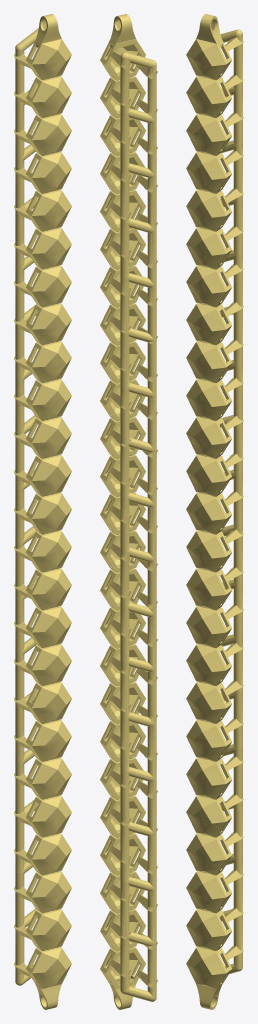
Rendered from yzn5-92_3.glb.
The picture shows the model from 3 angles, left to right: view 1: azimuth 30°, elevation 25°; view 2: azimuth 210°, elevation 25°; view 3: azimuth 330°, elevation 25°; orthographic projection.
Parts seen in each view (by area): view 1: Renderer Node; view 2: Renderer Node; view 3: Renderer Node.
Boxes of the visible parts, <box> form: Renderer Node: <box>14,14,71,1009</box>; Renderer Node: <box>100,14,157,1009</box>; Renderer Node: <box>186,14,243,1009</box>.
Size of the model in its own units: 7.65 by 181 by 8.44.
